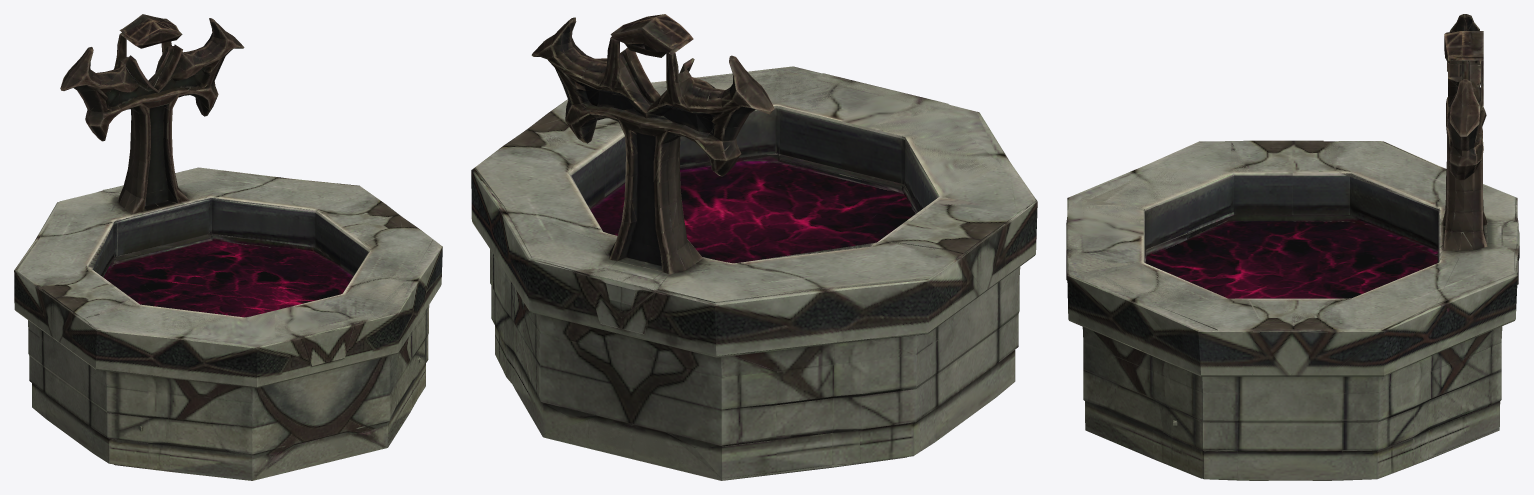
File: mana-well-black.glb
3 views of the same model, side by side, from view 1: azimuth 30°, elevation 25°; view 2: azimuth 150°, elevation 25°; view 3: azimuth 270°, elevation 25° (orthographic). The views are drawn at different scales.
Visible parts, largest first — view 1: Mesh_0; view 2: Mesh_0; view 3: Mesh_0.
Part boxes in pixels (<box>): Mesh_0: <box>14,14,442,480</box>; Mesh_0: <box>471,14,1037,480</box>; Mesh_0: <box>1066,14,1519,480</box>.
Bounding box in the file's own units: 2.25 × 2 × 2.26.
Materials: 1 (1 with a texture image).
